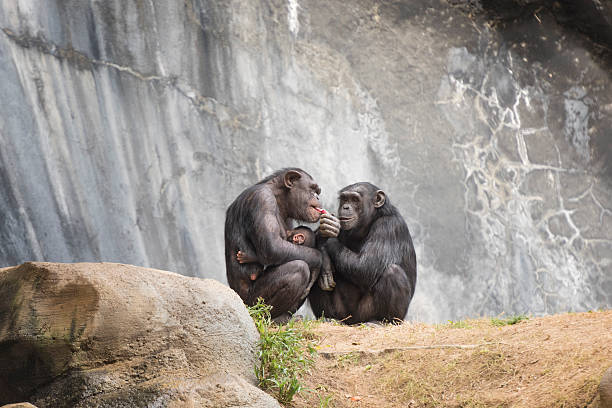chimpanzee: (278, 158, 330, 233), (339, 176, 390, 237)
